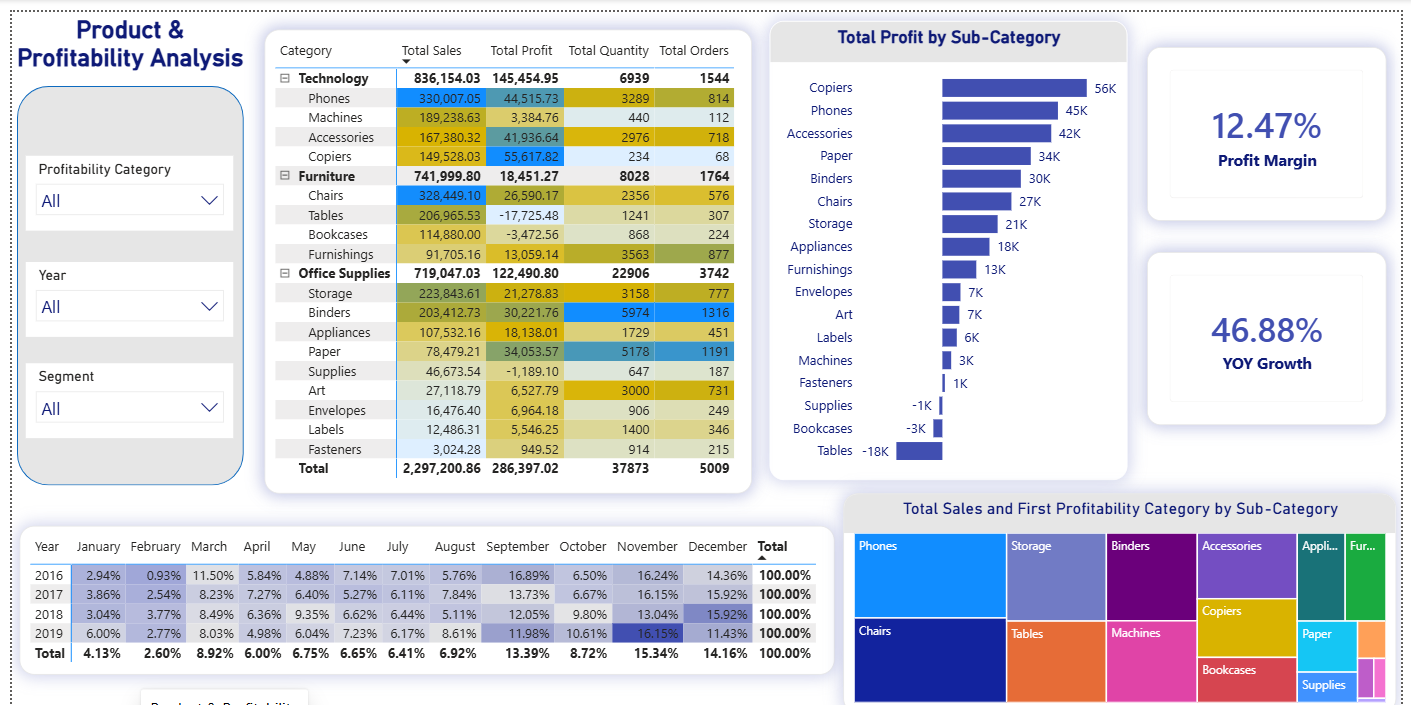

What the dashboard file says about the page in this screenshot:
{"tool":"powerbi","page":{"name":"Product & Profitability","canvas":[1425,720],"ordinal":1},"visuals":[{"type":"shape","title":"Product & Profitability Analysis","box":[5.2,3.9,232.5,481.8],"z":0},{"type":"slicer","fields":{"Values":["Orders.Profitability Category"]},"box":[14.3,148.1,213,76.6],"z":1000},{"type":"slicer","fields":{"Values":["Calendar.Year"]},"box":[14.3,255.8,213,76.6],"z":2000},{"type":"slicer","fields":{"Values":["Orders.Segment"]},"box":[14.3,359.7,213,76.6],"z":3000},{"type":"clusteredBarChart","fields":{"Category":["Orders.Sub-Category","Orders.Category"],"Y":["Orders.Total Profit"]},"box":[777.1,8.6,367.1,471.4],"z":4000},{"type":"pivotTable","fields":{"Rows":["Orders.Category","Orders.Sub-Category"],"Values":["Orders.Total Sales","Orders.Total Profit","Orders.Total Quantity","Orders.Total Orders"]},"box":[258.6,18.6,500,475.7],"z":5000},{"type":"pivotTable","fields":{"Columns":["Calendar.Month Name"],"Rows":["Calendar.Year"],"Values":["Orders.Total Sales"]},"box":[7.1,527.1,835.7,152.9],"z":6000},{"type":"treemap","fields":{"Group":["Orders.Sub-Category"],"Values":["Orders.Total Sales"]},"box":[851.9,493.5,567.5,226],"z":7000},{"type":"cardVisual","fields":{"Data":["Orders.Profit Margin"]},"box":[1164.3,35.7,245.7,178.6],"z":8000},{"type":"cardVisual","fields":{"Data":["Orders.YOY Growth"]},"box":[1164.3,245.7,245.5,177.9],"z":9000}]}

Visuals, with their boxes in screenshot pixels (x1, y1, x2, y2), scaled from the page's 1425x720 canvas onto the 1411x705 screenshot:
"Product & Profitability Analysis" shape: locate(5, 4, 235, 476)
slicer - Orders.Profitability Category: locate(14, 145, 225, 220)
slicer - Calendar.Year: locate(14, 250, 225, 325)
slicer - Orders.Segment: locate(14, 352, 225, 427)
clusteredBarChart - Orders.Sub-Category x Orders.Category: locate(769, 8, 1133, 470)
pivotTable - Orders.Category x Orders.Sub-Category: locate(256, 18, 751, 484)
pivotTable - Calendar.Month Name x Calendar.Year: locate(7, 516, 835, 666)
treemap - Orders.Sub-Category x Orders.Total Sales: locate(844, 483, 1405, 704)
cardVisual - Orders.Profit Margin: locate(1153, 35, 1396, 210)
cardVisual - Orders.YOY Growth: locate(1153, 241, 1396, 415)
